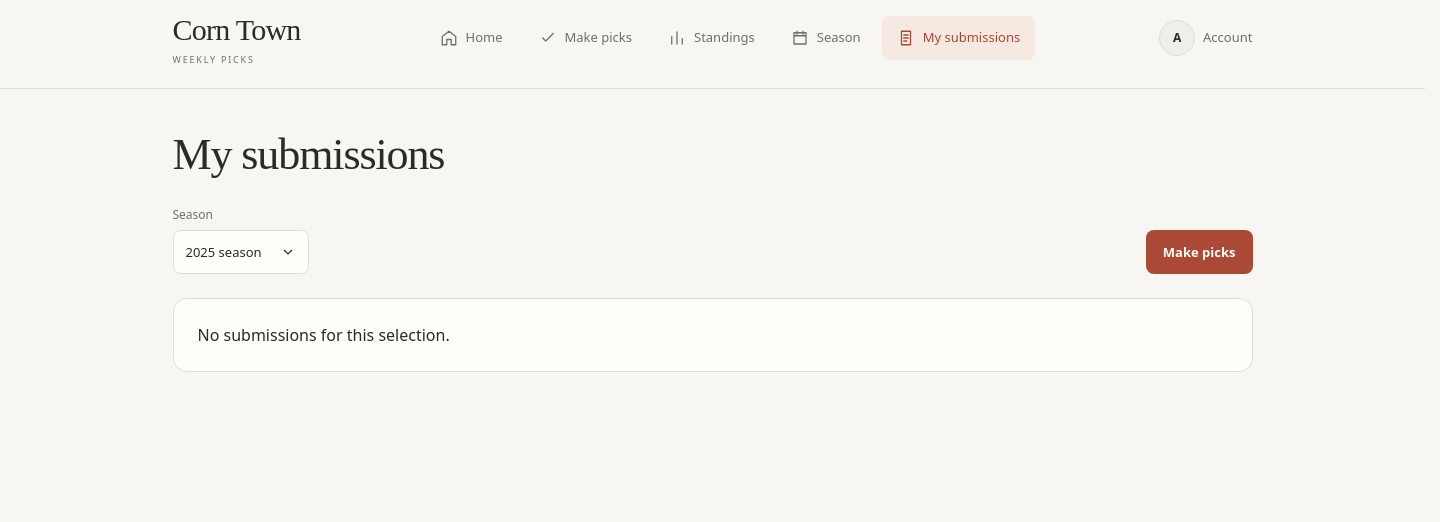
Test: authentication and navigation › signs out with CSRF and removes private navigation
Click the text "Account" at (1228, 38), box [1203, 28, 1252, 48]
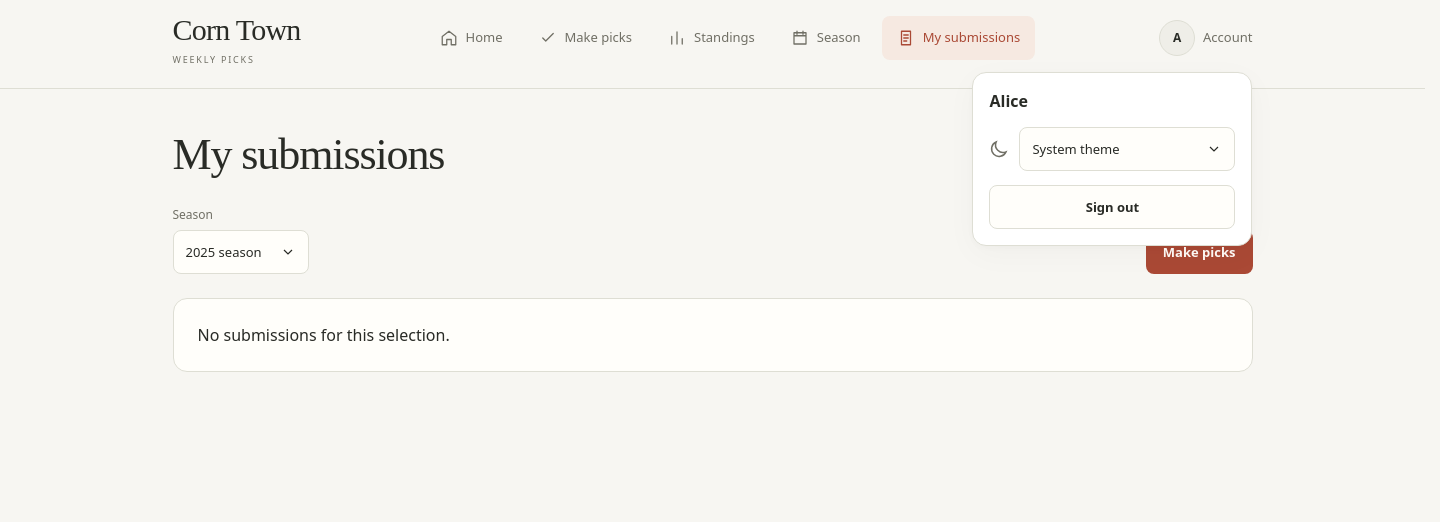
Click the button "Sign out" at (1112, 207), box [990, 185, 1236, 229]
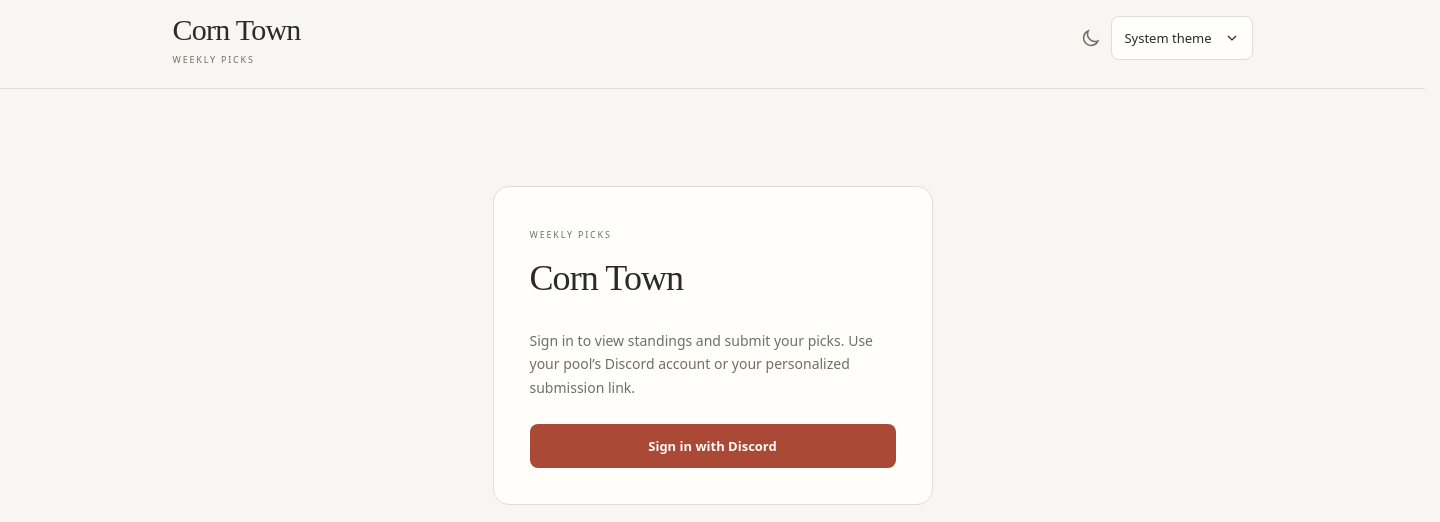
Now the link "Sign in with Discord" is shown, box [530, 424, 896, 468]
